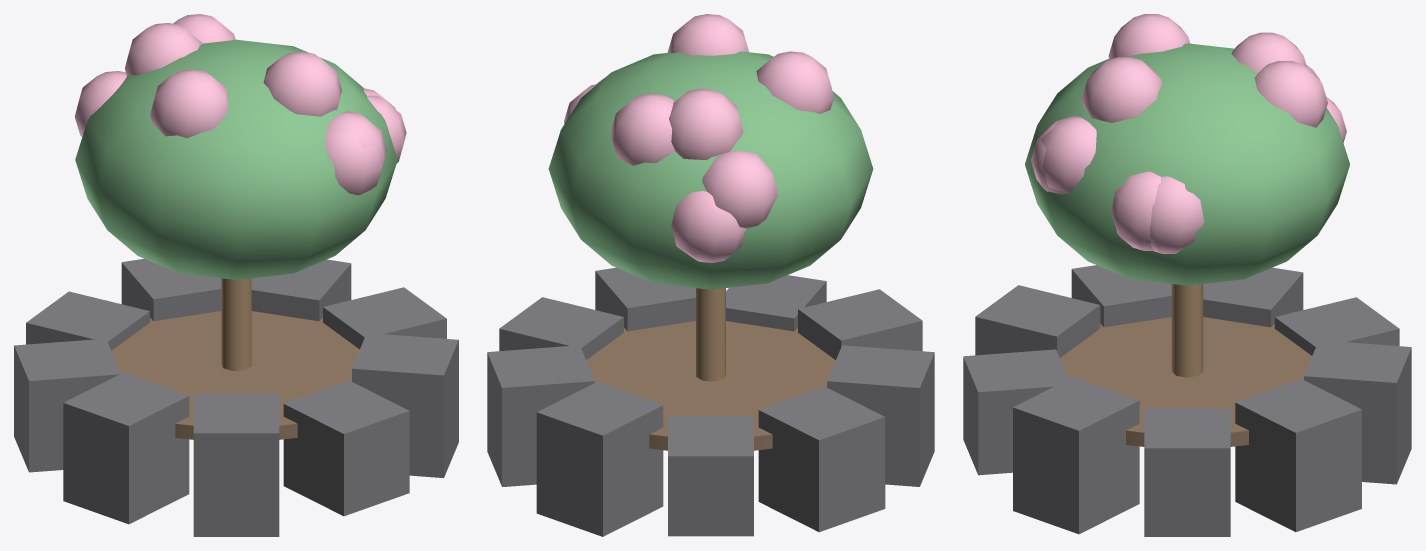
The model's file is Kerb_StoneBed.fbx.
The picture shows the model from 3 angles, left to right: view 1: azimuth 30°, elevation 25°; view 2: azimuth 150°, elevation 25°; view 3: azimuth 270°, elevation 25°; orthographic projection.
Visible parts, largest first — view 1: Kerb_StoneBed; view 2: Kerb_StoneBed; view 3: Kerb_StoneBed.
Boxes of the visible parts, x1,y1,x2,y2 form: Kerb_StoneBed: [14, 14, 458, 536]; Kerb_StoneBed: [487, 14, 934, 536]; Kerb_StoneBed: [963, 14, 1411, 536].
Bounding box in the file's own units: 1.12 × 1.14 × 1.14.
